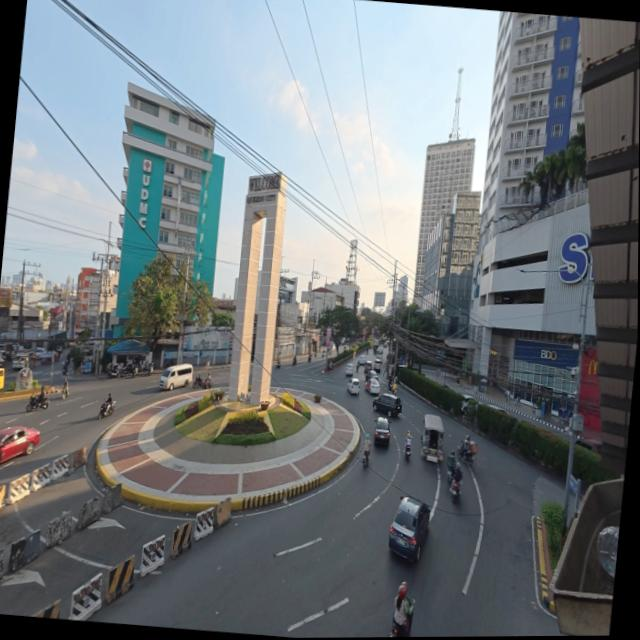Jeepneys: (422, 414, 444, 462)
car: (389, 497, 429, 561), (0, 427, 40, 464), (373, 394, 402, 416), (374, 417, 390, 446), (576, 438, 602, 455), (462, 394, 478, 413), (368, 377, 381, 395), (487, 404, 508, 414), (347, 378, 360, 394), (365, 370, 378, 382), (357, 353, 367, 366), (364, 361, 373, 372), (346, 363, 353, 376), (374, 358, 381, 371), (383, 342, 387, 349)
motorcycle: (390, 598, 415, 636), (458, 441, 477, 468), (26, 394, 48, 412), (98, 401, 115, 419), (123, 362, 138, 377), (450, 481, 459, 502), (139, 362, 153, 375), (108, 364, 121, 378), (193, 373, 204, 389), (361, 450, 369, 468), (405, 443, 412, 458), (204, 377, 212, 389), (61, 363, 68, 376), (62, 387, 68, 400), (275, 360, 281, 369), (306, 352, 311, 362), (292, 357, 296, 366), (322, 351, 324, 357)
vans: (159, 364, 192, 390), (12, 355, 28, 370)
